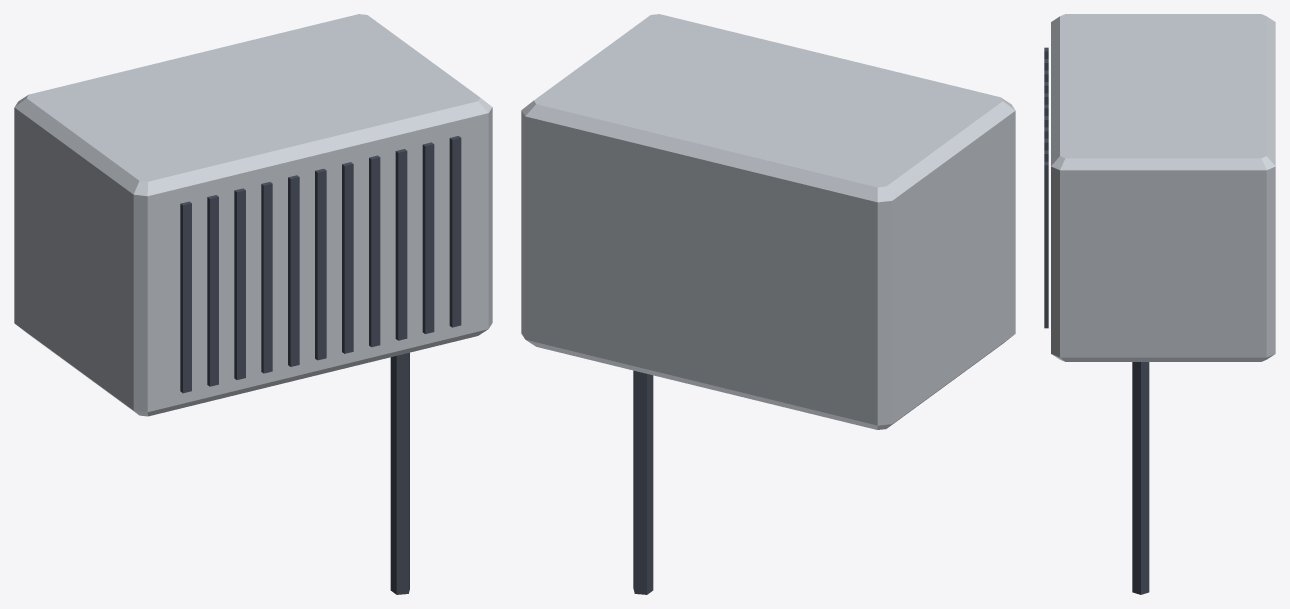
Rendered from wall_ac_unit.glb.
3 renders of one model, left to right at view 1: azimuth 30°, elevation 25°; view 2: azimuth 150°, elevation 25°; view 3: azimuth 270°, elevation 25°, orthographic. The views are drawn at different scales.
Parts seen in each view (by area): view 1: wall_ac_unit; view 2: wall_ac_unit; view 3: wall_ac_unit.
Part boxes in pixels (left/top/right/bottom): wall_ac_unit: left=14, top=14, right=492, bottom=594; wall_ac_unit: left=521, top=14, right=1015, bottom=594; wall_ac_unit: left=1044, top=14, right=1275, bottom=594.
Size of the model in its own units: 0.8 by 1.1 by 0.515.
